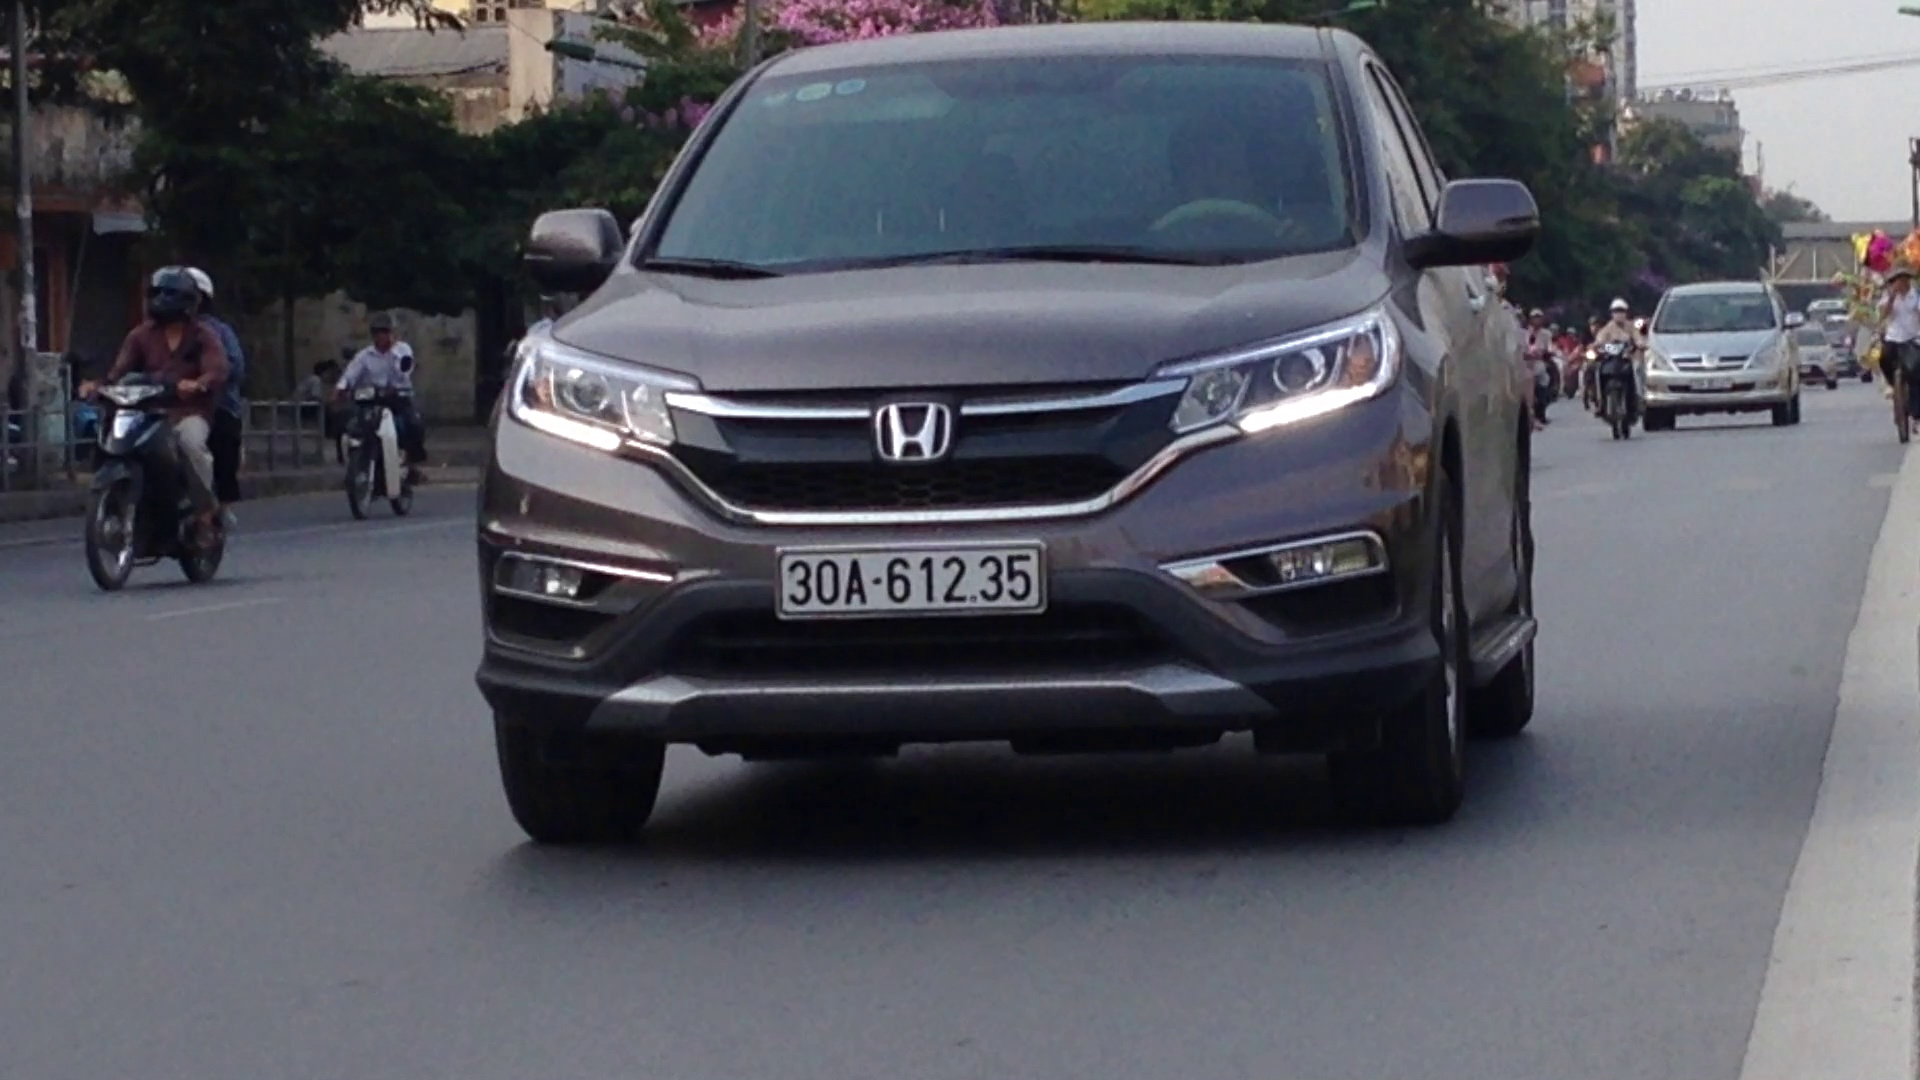person: (771, 538, 1048, 618)
